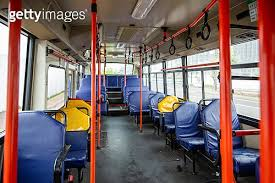seat: (58, 102, 91, 169)
